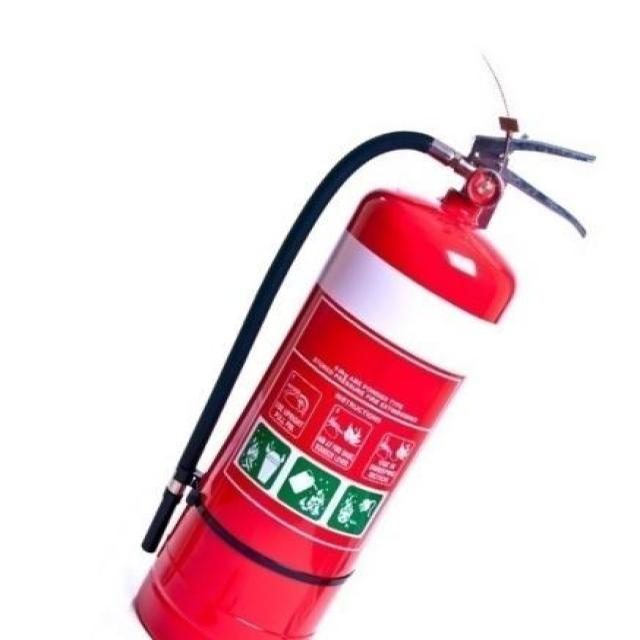fire_extinguisher: (119, 124, 600, 639)
